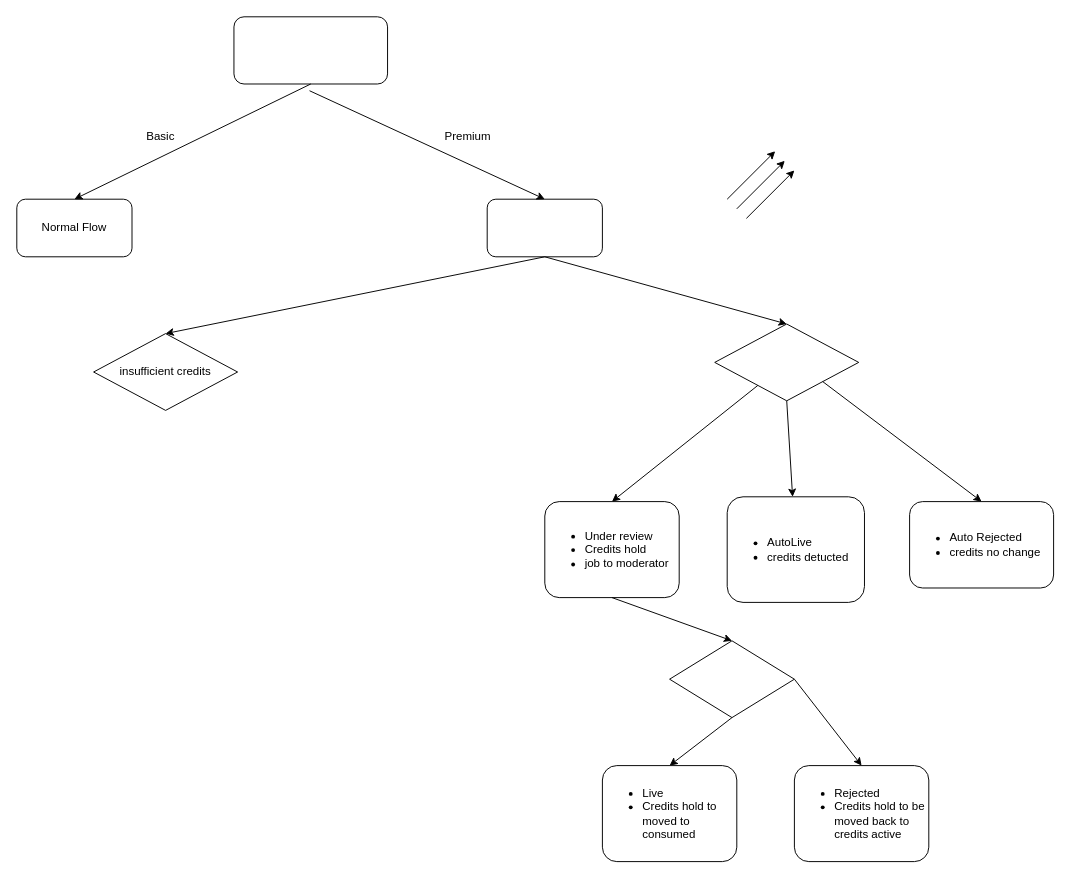
Image size: 1070x878. Some labels were removed from this diagram. Each missing label, with the centre of its shape:
"/v5/save" goes at (x=310, y=50).
"CRM" goes at (x=731, y=679).
"Premium flow" goes at (x=544, y=227).
"sufficient credits" goes at (x=786, y=362).
